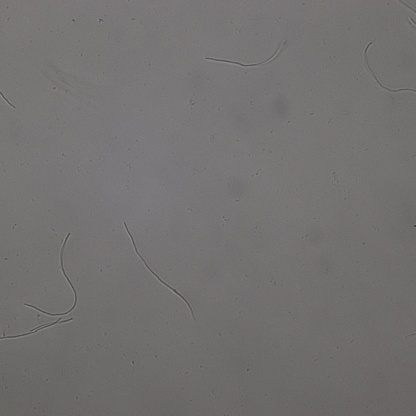Sensitive: (123, 221, 194, 320), (24, 233, 78, 315), (363, 42, 416, 95), (205, 44, 283, 68), (1, 317, 72, 341)
